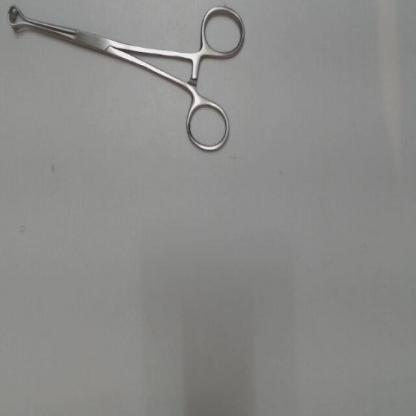Babcock Tissue Forceps: (3, 0, 250, 158)
